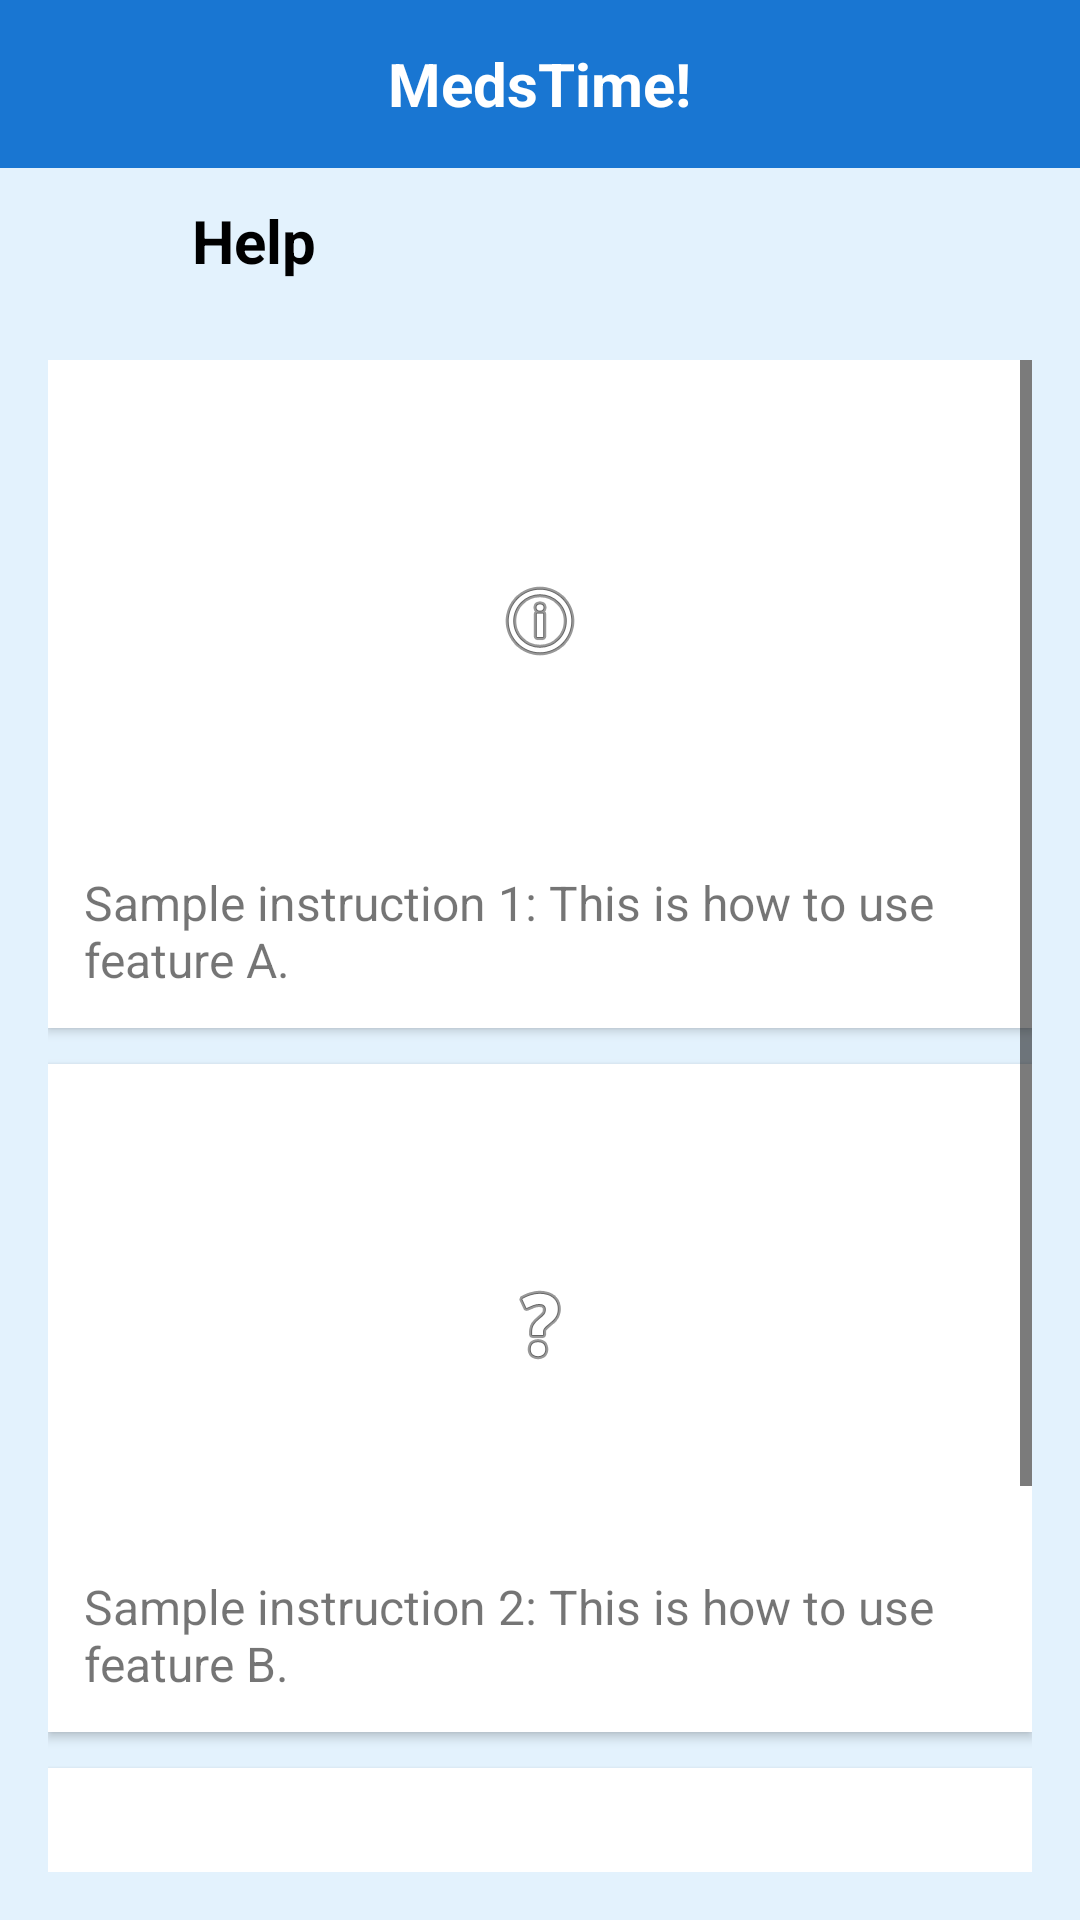

Locate icon controls on the screen. Image size 1080px x 1920px, boxes as {"x1": x1, "y1": y1, "x2": x2, "y2": y2}.
Help Image 2: {"x1": 519, "y1": 1291, "x2": 561, "y2": 1359}
